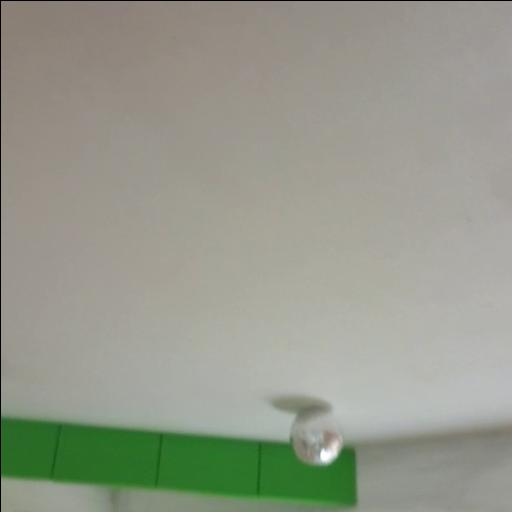alive: (290, 406, 342, 465)
